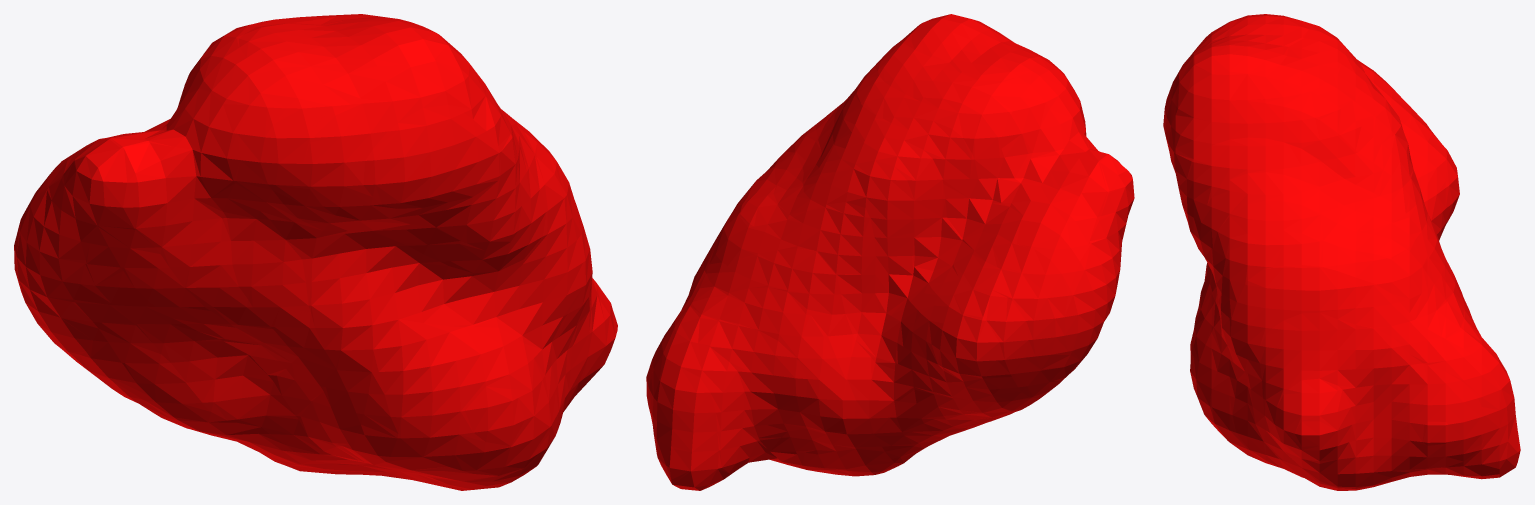
The model's file is yqjD_coarse.dae.
3 views of the same model, side by side, from view 1: azimuth 30°, elevation 25°; view 2: azimuth 150°, elevation 25°; view 3: azimuth 270°, elevation 25° (orthographic). The views are drawn at different scales.
Visible parts, largest first — view 1: yqjD; view 2: yqjD; view 3: yqjD.
Boxes of the visible parts, left/top/right/bottom form: yqjD: left=14, top=14, right=617, bottom=490; yqjD: left=646, top=14, right=1134, bottom=490; yqjD: left=1163, top=14, right=1520, bottom=490.
Size of the model in its own units: 43.65 by 38.77 by 33.28.
